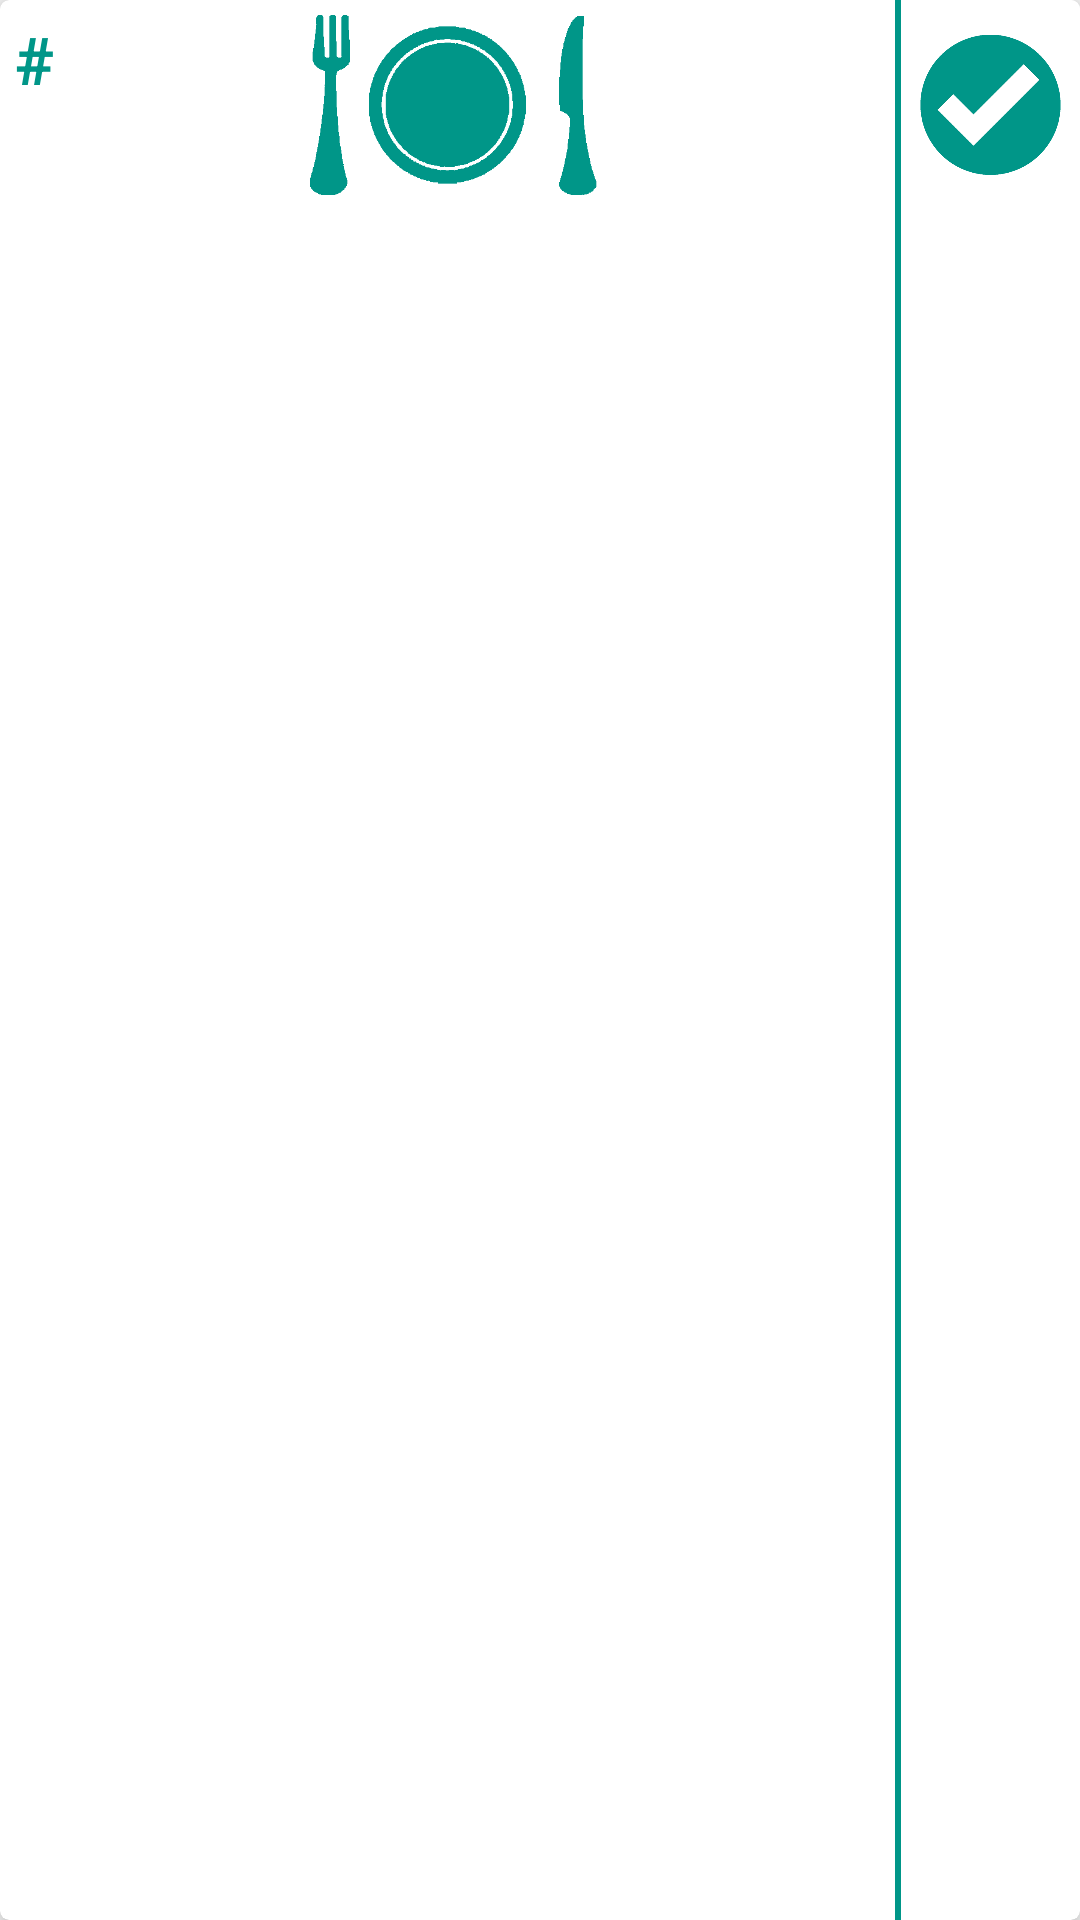

Where icons sit on this 1080*1920 app screen, as (x1, y1, x2, y2):
check: (920, 35, 1061, 175)
